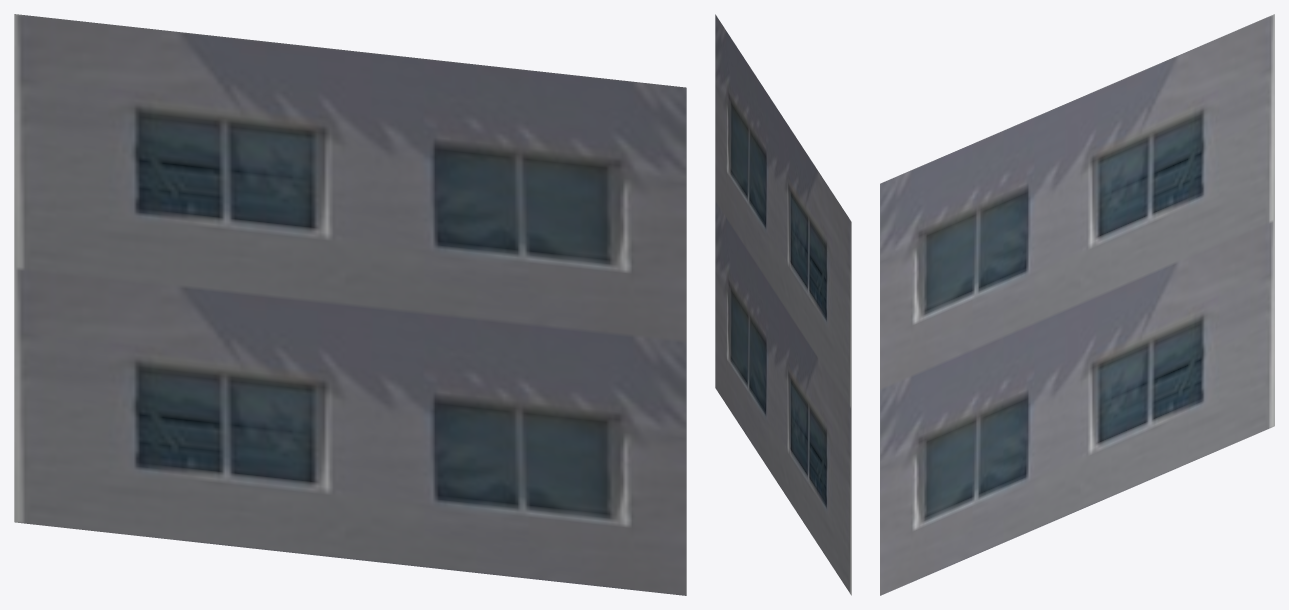
Rendered from ResTex__1362.fbx.
3 renders of one model, left to right at view 1: azimuth 30°, elevation 25°; view 2: azimuth 150°, elevation 25°; view 3: azimuth 270°, elevation 25°, orthographic. The views are drawn at different scales.
Parts seen in each view (by area): view 1: CityEngineMaterial_10_m; view 2: CityEngineMaterial_10_m; view 3: CityEngineMaterial_10_m.
Boxes of the visible parts, x1=… form: CityEngineMaterial_10_m: x1=14, y1=14, x2=686, y2=595; CityEngineMaterial_10_m: x1=715, y1=14, x2=851, y2=595; CityEngineMaterial_10_m: x1=880, y1=14, x2=1274, y2=595.
Size of the model in its own units: 5.3 by 6 by 5.21.
1 material, 1 textured.
